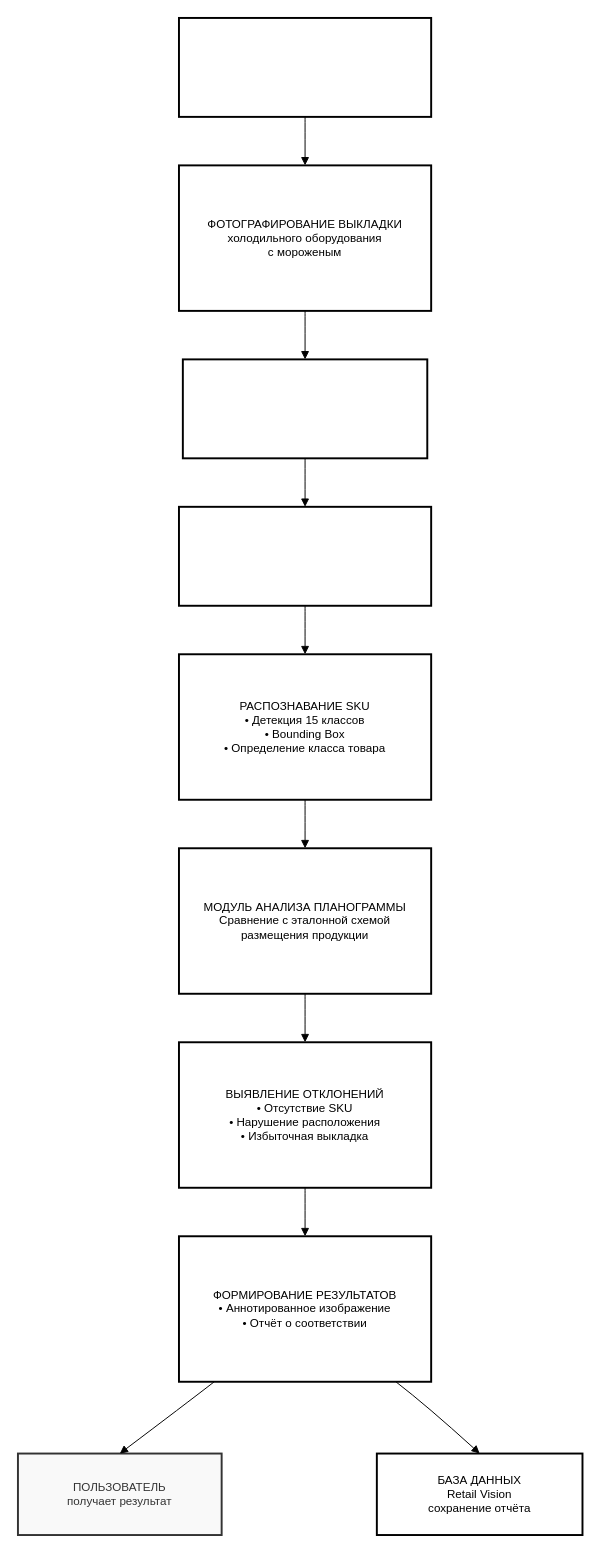
This 599x1552 diagram has some shape labels left out. The shapes that lost their labels are listed below. From the top down, each one's box as (x1, y1, x2, y2) in pixels, then its label:
(178, 16, 432, 117): МЕРЧЕНДАЙЗЕР (Telegram-бот / Retail Vision)
(181, 358, 428, 459): ПЕРЕДАЧА ИЗОБРАЖЕНИЯ В МОДУЛЬ ОБРАБОТКИ (Offline-First режим)
(178, 505, 432, 606): НЕЙРОСЕТЕВОЙ МОДУЛЬ YOLOv8n ОБНАРУЖЕНИЕ ОБЪЕКТОВ
